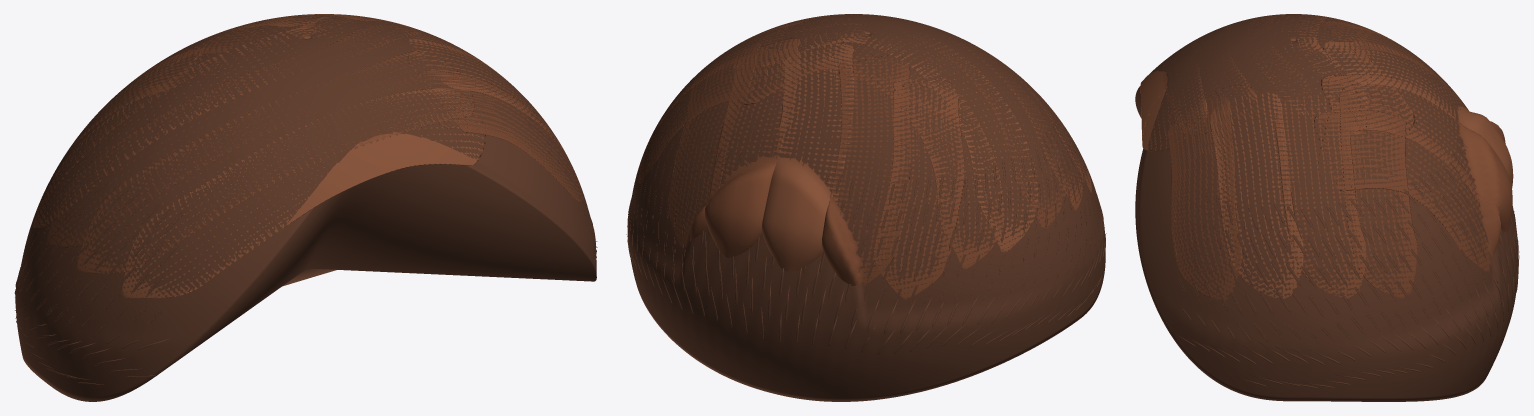
Rendered from Masculine-taper-cap-glasses-hot-hoodie-hair.glb.
3 views of the same model, side by side, from view 1: azimuth 30°, elevation 25°; view 2: azimuth 150°, elevation 25°; view 3: azimuth 270°, elevation 25° (orthographic). The views are drawn at different scales.
Parts seen in each view (by area): view 1: Hair / Taper short sides, Hair / Taper top 0, Hair / Taper fine direction, Hair / Taper short sweep 0, Hair / Taper top 1, Hair / Taper top 2, Hair / Taper top 3, Hair / Taper short sweep 1, Hair / Taper crown 0, Hair / Taper top 4, Hair / Taper crown 1; view 2: Hair / Taper short sides, Hair / Taper fine direction, Hair / Taper crown 2, Hair / Taper crown 3, Hair / Taper crown 1, Hair / Taper crown 0, Hair / Taper crown 4, Hair / Taper top 4, Hair / Taper top 3, Hair / Taper short sweep 3, Hair / Taper top 2, Hair / Taper top 1 (+1 smaller); view 3: Hair / Taper short sides, Hair / Taper fine direction, Hair / Taper short sweep 0, Hair / Taper crown 4, Hair / Taper crown 3, Hair / Taper short sweep 3, Hair / Taper short sweep 1, Hair / Taper short sweep 2, Hair / Taper crown 2, Hair / Taper top 0, Hair / Taper top 4, Hair / Taper crown 1 (+3 smaller).
Part boxes in pixels (left/top/right/bottom): Hair / Taper short sides: left=15, top=14, right=596, bottom=401; Hair / Taper top 0: left=121, top=88, right=485, bottom=298; Hair / Taper fine direction: left=14, top=96, right=597, bottom=384; Hair / Taper short sweep 0: left=418, top=70, right=584, bottom=202; Hair / Taper top 1: left=76, top=51, right=474, bottom=273; Hair / Taper top 2: left=47, top=24, right=453, bottom=248; Hair / Taper top 3: left=33, top=14, right=421, bottom=227; Hair / Taper short sweep 1: left=409, top=38, right=565, bottom=153; Hair / Taper crown 0: left=61, top=47, right=208, bottom=160; Hair / Taper top 4: left=35, top=14, right=369, bottom=213; Hair / Taper crown 1: left=119, top=22, right=271, bottom=92; Hair / Taper short sides: left=627, top=14, right=1105, bottom=401; Hair / Taper fine direction: left=626, top=82, right=1106, bottom=354; Hair / Taper crown 2: left=762, top=42, right=853, bottom=271; Hair / Taper crown 3: left=705, top=38, right=800, bottom=257; Hair / Taper crown 1: left=822, top=52, right=911, bottom=285; Hair / Taper crown 0: left=874, top=76, right=964, bottom=299; Hair / Taper crown 4: left=668, top=41, right=760, bottom=249; Hair / Taper top 4: left=725, top=32, right=1004, bottom=269; Hair / Taper top 3: left=756, top=18, right=1038, bottom=252; Hair / Taper short sweep 3: left=638, top=48, right=781, bottom=183; Hair / Taper top 2: left=777, top=16, right=1066, bottom=228; Hair / Taper top 1: left=806, top=14, right=1083, bottom=210; Hair / Taper short sides: left=1135, top=14, right=1518, bottom=401; Hair / Taper fine direction: left=1169, top=89, right=1519, bottom=388; Hair / Taper short sweep 0: left=1167, top=90, right=1241, bottom=300; Hair / Taper crown 4: left=1314, top=110, right=1500, bottom=272; Hair / Taper crown 3: left=1321, top=74, right=1512, bottom=232; Hair / Taper short sweep 3: left=1338, top=87, right=1417, bottom=298; Hair / Taper short sweep 1: left=1209, top=92, right=1303, bottom=298; Hair / Taper short sweep 2: left=1275, top=95, right=1366, bottom=298; Hair / Taper crown 2: left=1322, top=41, right=1513, bottom=187; Hair / Taper top 0: left=1140, top=39, right=1207, bottom=151; Hair / Taper top 4: left=1299, top=15, right=1417, bottom=138; Hair / Taper crown 1: left=1315, top=21, right=1505, bottom=143.
Bounding box in the file's own units: 0.9734 × 0.6367 × 0.7099.
